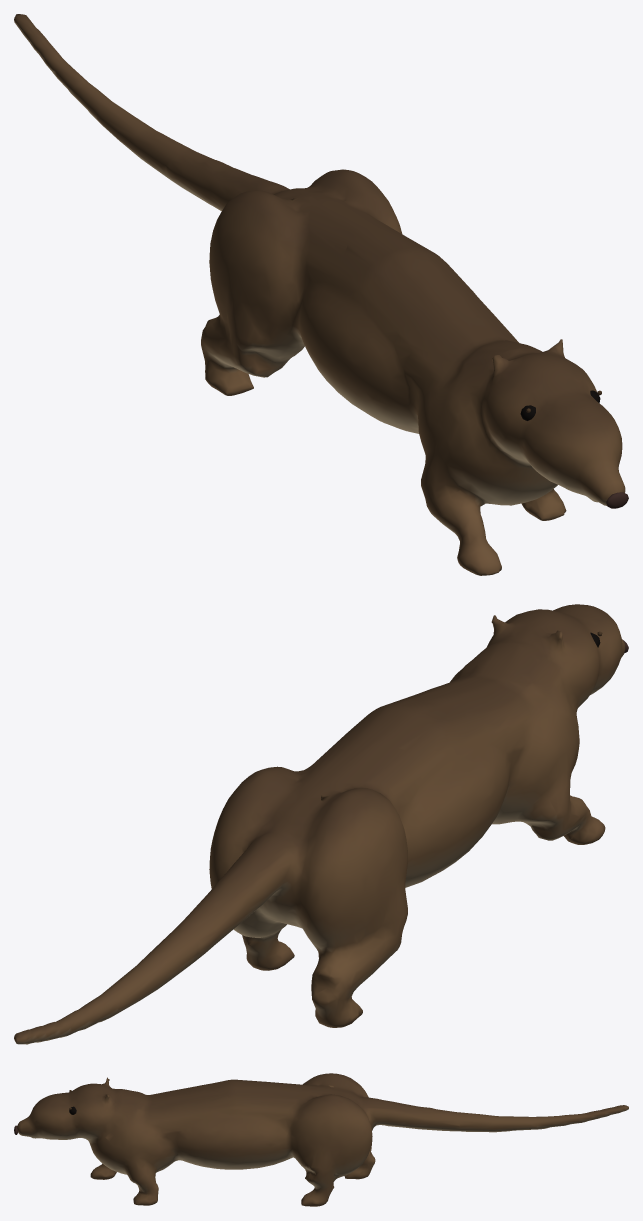
The model's file is Protungulatum.fbx.
3 renders of one model, top to bottom at view 1: azimuth 30°, elevation 25°; view 2: azimuth 150°, elevation 25°; view 3: azimuth 270°, elevation 25°, orthographic. The views are drawn at different scales.
Visible parts, largest first — view 1: Protungulatum; view 2: Protungulatum; view 3: Protungulatum.
Boxes of the visible parts, x1,y1,x2,y2 form: Protungulatum: (14, 14, 628, 575); Protungulatum: (14, 604, 628, 1044); Protungulatum: (14, 1073, 628, 1206).
Bounding box in the file's own units: 0.2795 × 0.3409 × 1.74.
